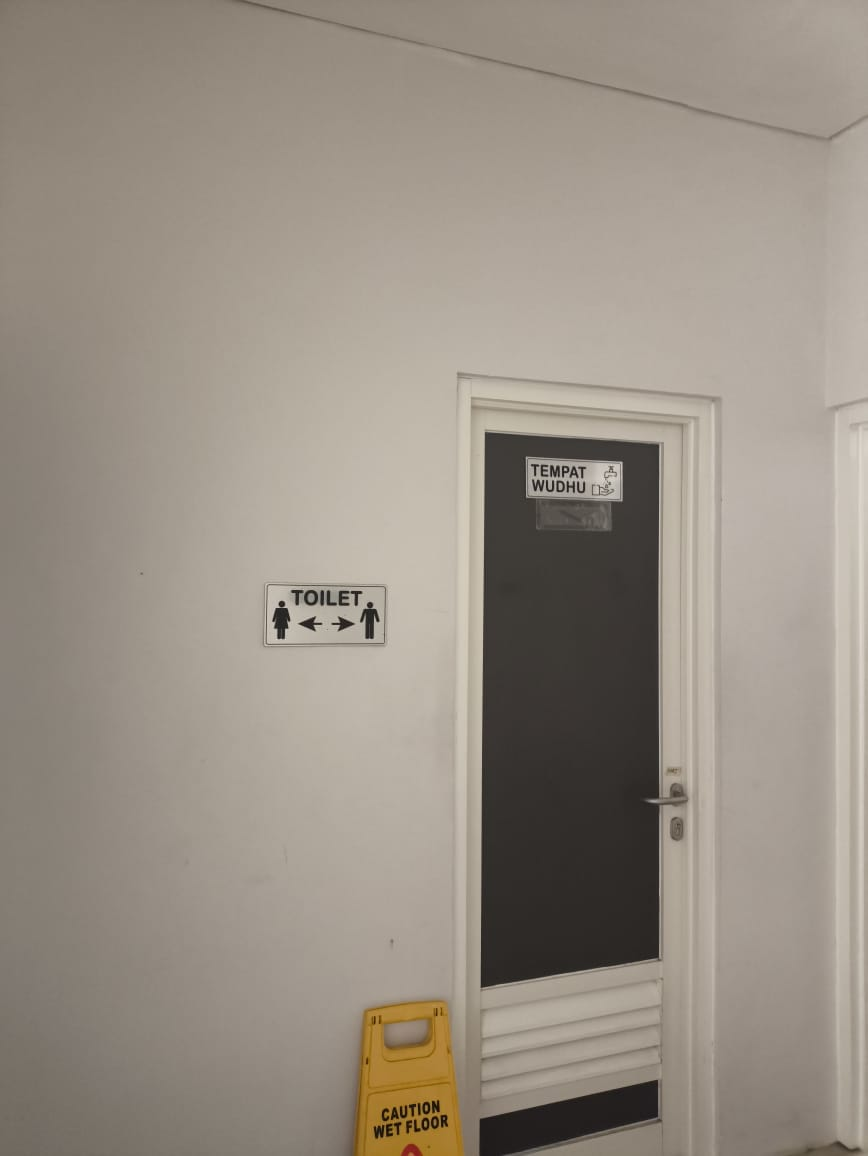tempat wudhu: (514, 445, 628, 506)
toilet: (258, 574, 395, 655)
